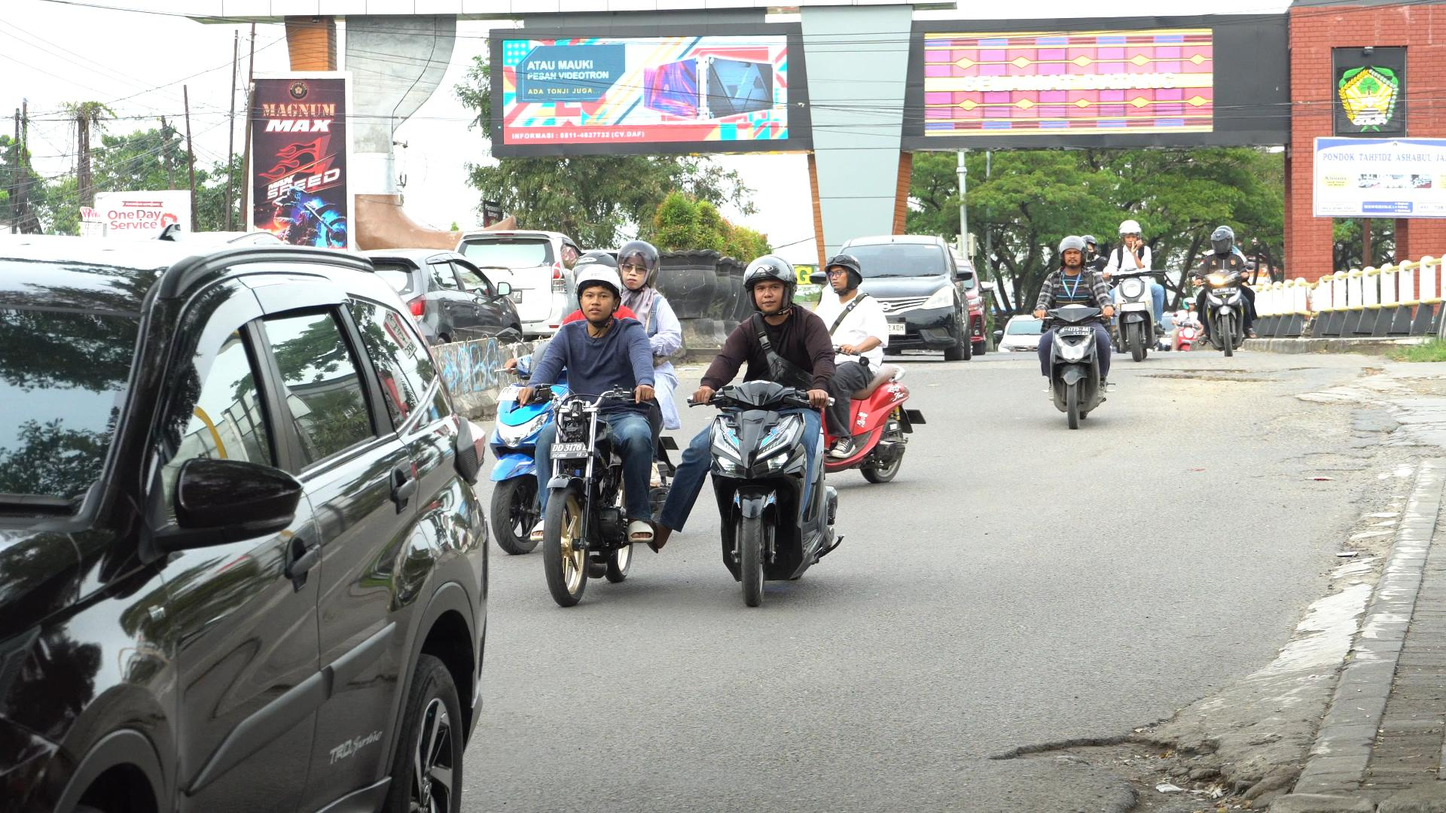number-plate: (550, 441, 586, 461), (1057, 326, 1089, 337)
